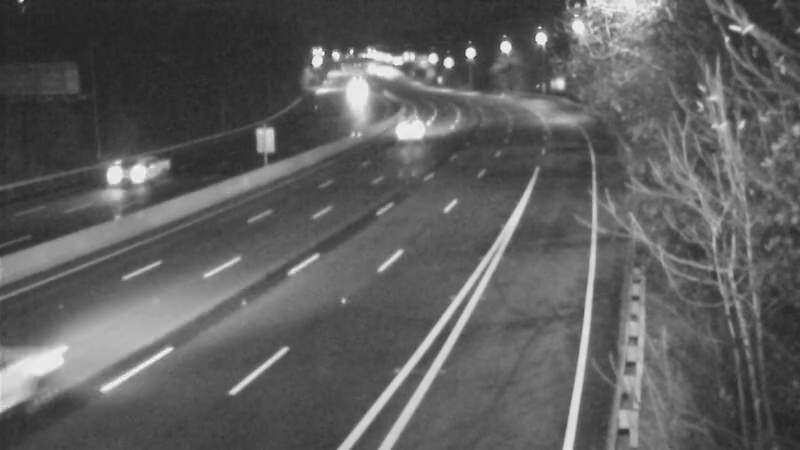vehicle: (78, 133, 158, 213), (390, 101, 440, 151), (336, 76, 386, 126)
